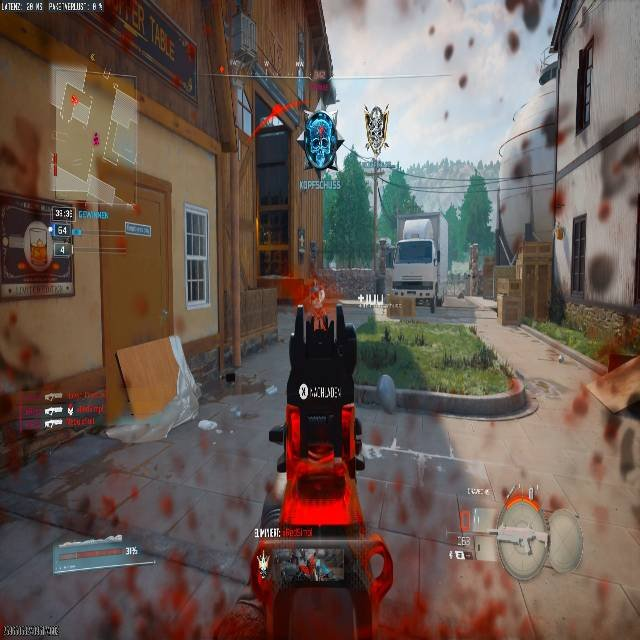player: (303, 111, 339, 177)
